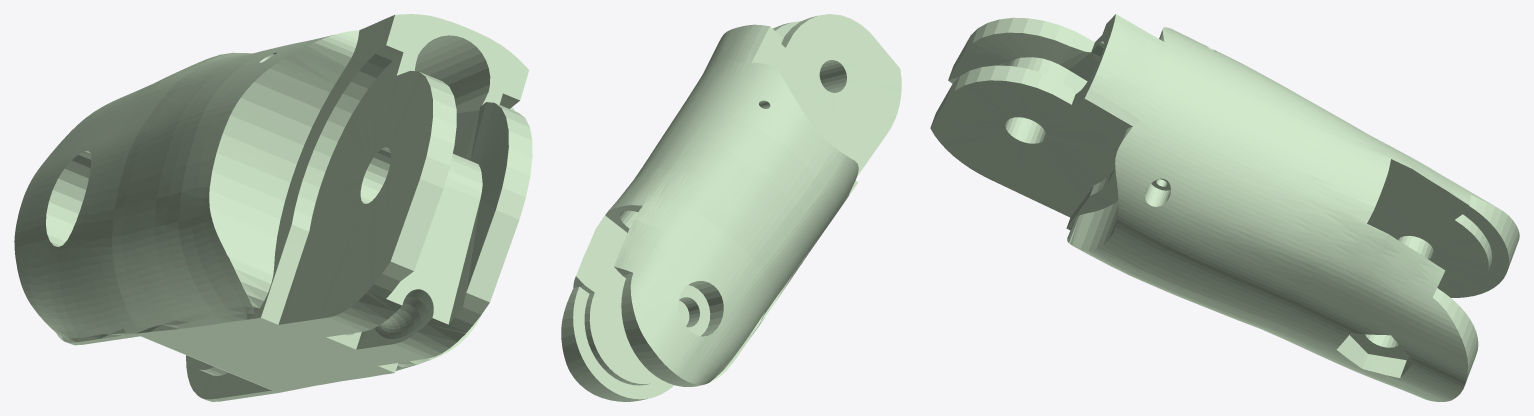
The model's file is i02_leftHand_indexPhal_visual.obj.full.glb.
3 renders of one model, left to right at view 1: azimuth 30°, elevation 25°; view 2: azimuth 150°, elevation 25°; view 3: azimuth 270°, elevation 25°, orthographic. The views are drawn at different scales.
Bounding box in the file's own units: 0.2049 × 0.3471 × 0.4992.
